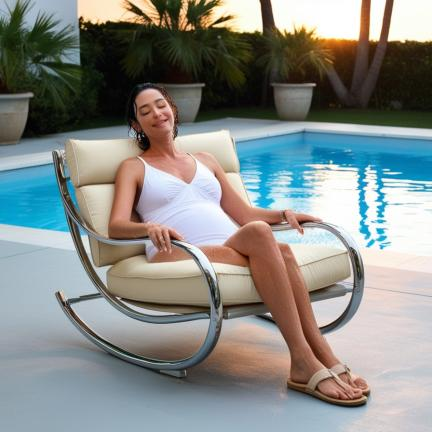occupied chair: (53, 83, 370, 406)
